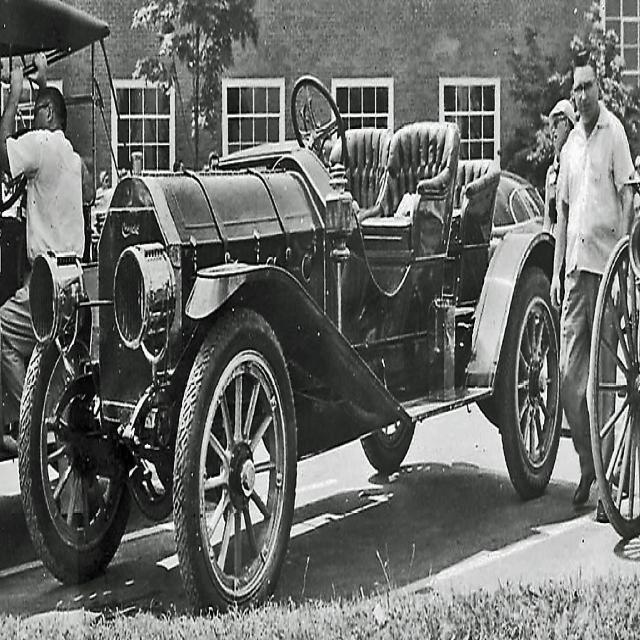car: (20, 72, 563, 611)
